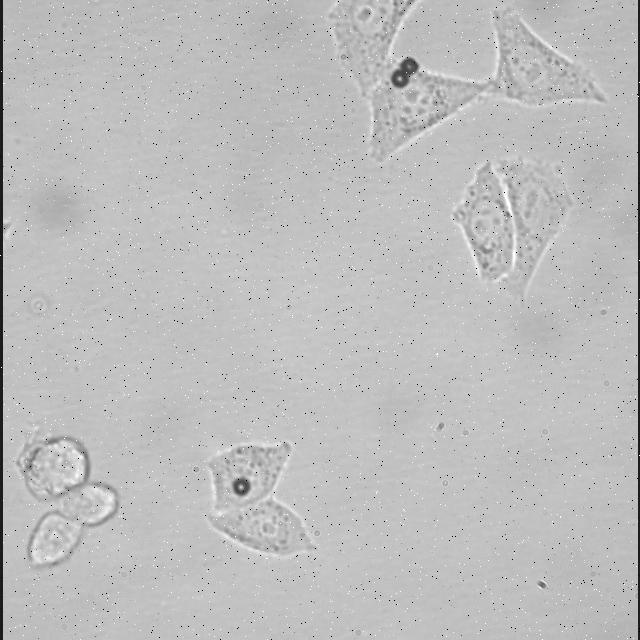microbeads: (400, 52, 420, 76), (232, 477, 252, 497), (392, 68, 410, 90)
